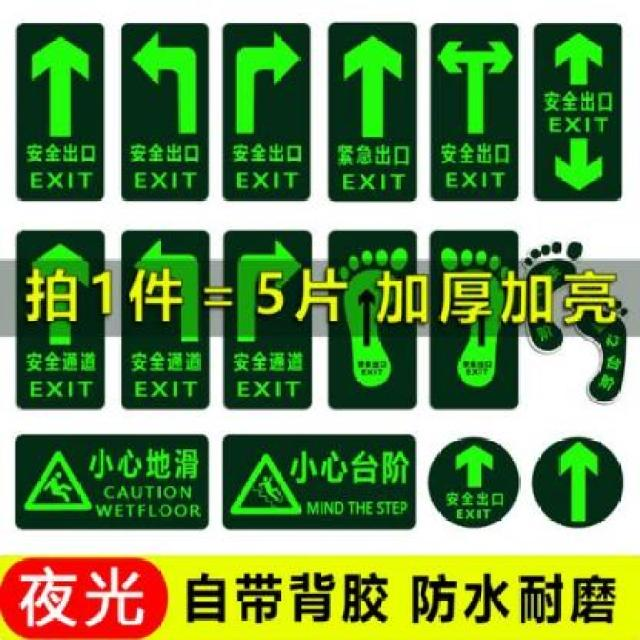exit_sign: (220, 428, 419, 538), (6, 426, 199, 534)
